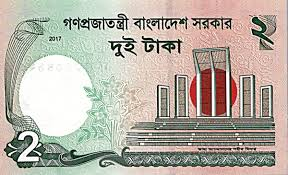2_taka: (8, 13, 279, 166)
